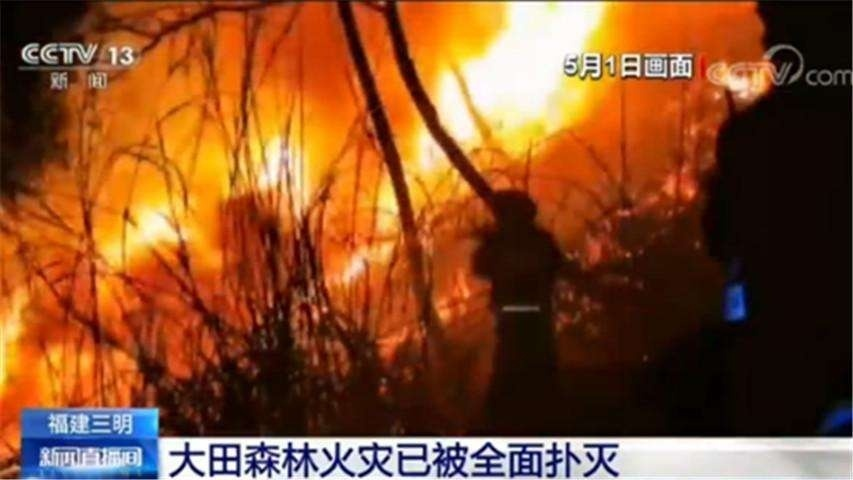fire: (392, 2, 611, 176)
